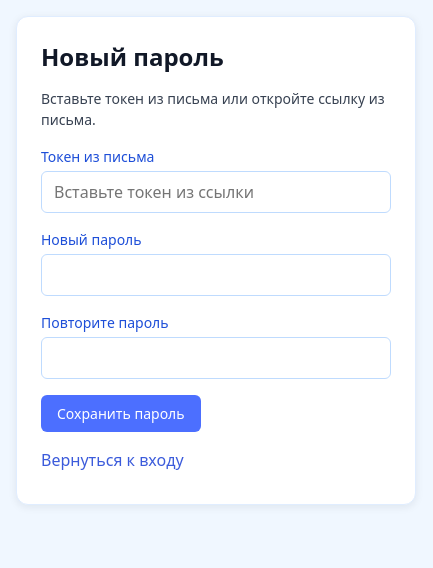
Test case: ResetPasswordPage › shows error when passwords do not match
Type "some-token-123" into the field labelled "Токен из письма". click: [216, 192]
box: x1=41 y1=171 x2=391 y2=213
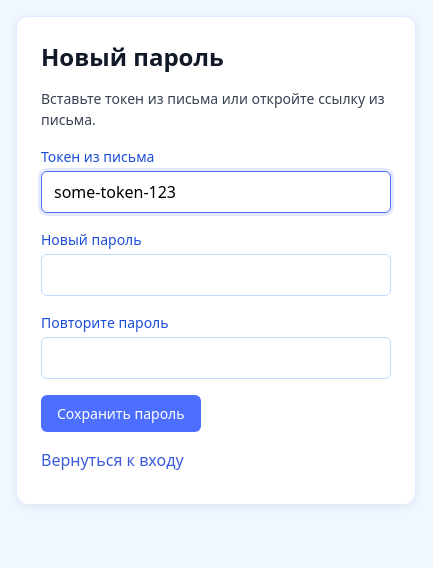
Type "password1" into the password field labelled "Новый пароль". click: [216, 275]
box: x1=41 y1=254 x2=391 y2=296
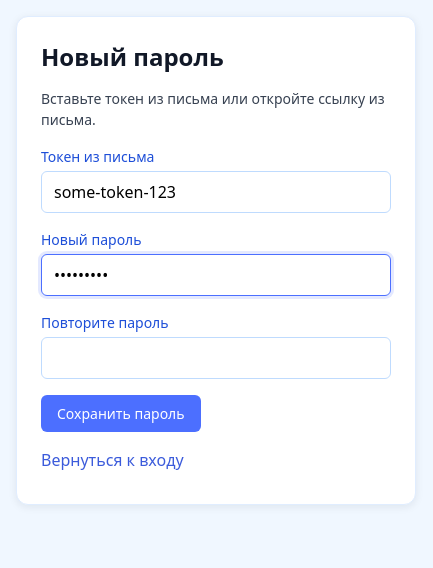
Type "password2" into the password field labelled "Повторите пароль". click: [216, 358]
box: x1=41 y1=337 x2=391 y2=379
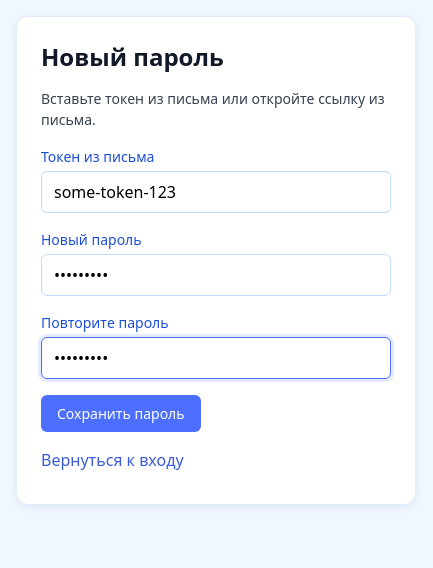
Click the button "Сохранить пароль". click: [121, 414]
box: x1=41 y1=395 x2=200 y2=432
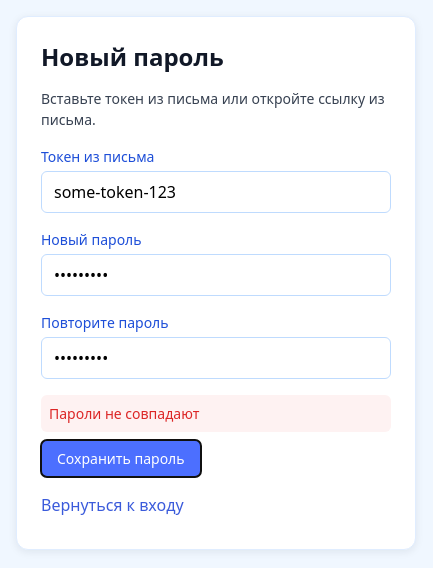
Now the text "Пароли не совпадают" is shown, box x1=41 y1=395 x2=391 y2=432
